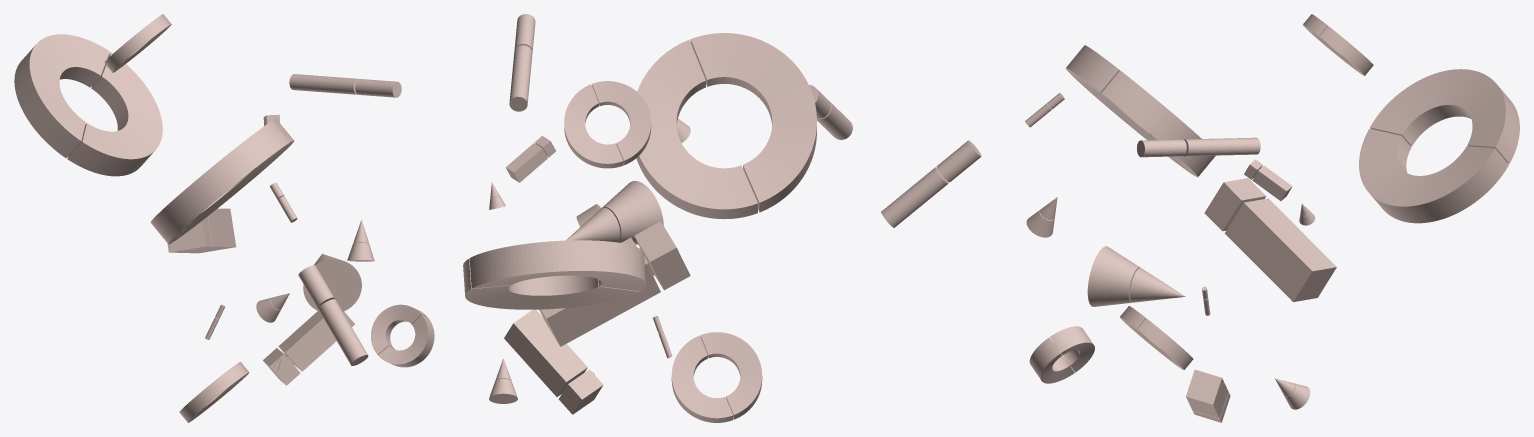
File: floating_shapes5.glb
The picture shows the model from 3 angles, left to right: view 1: azimuth 30°, elevation 25°; view 2: azimuth 150°, elevation 25°; view 3: azimuth 270°, elevation 25°; orthographic projection. The views are drawn at different scales.
Parts seen in each view (by area): view 1: Cylinder.015, Cylinder.019, Cylinder.011, Cube.002, Cylinder.005, Cube.001, Cylinder.013, Cylinder.001, Cylinder.020, Cylinder.023, Cylinder.016, Cylinder.012; view 2: Cylinder.019, Cylinder.015, Cylinder.020, Cube.001, Cylinder.023, Cube.002, Cylinder.001, Cylinder.013, Cube.006, Cylinder.005, Cylinder.012; view 3: Cylinder.015, Cube.001, Cylinder.019, Cylinder.001, Cylinder.011, Cylinder.005, Cylinder.013, Cube.002, Cylinder.020, Cylinder.023, Cube.006, Cylinder.016 (+1 smaller).
Part boxes in pixels (x1=…): Cylinder.015: x1=14, y1=34, x2=162, y2=176; Cylinder.019: x1=150, y1=119, x2=294, y2=244; Cylinder.011: x1=371, y1=304, x2=434, y2=367; Cube.002: x1=263, y1=311, x2=355, y2=385; Cylinder.005: x1=298, y1=265, x2=368, y2=365; Cube.001: x1=167, y1=208, x2=236, y2=253; Cylinder.013: x1=289, y1=74, x2=401, y2=97; Cylinder.001: x1=303, y1=253, x2=361, y2=311; Cylinder.020: x1=179, y1=362, x2=249, y2=422; Cylinder.023: x1=104, y1=14, x2=171, y2=72; Cylinder.016: x1=347, y1=220, x2=374, y2=261; Cylinder.012: x1=256, y1=293, x2=289, y2=322; Cylinder.019: x1=636, y1=33, x2=816, y2=219; Cylinder.015: x1=463, y1=240, x2=645, y2=309; Cylinder.020: x1=671, y1=332, x2=762, y2=422; Cube.001: x1=539, y1=221, x2=690, y2=346; Cylinder.023: x1=564, y1=81, x2=651, y2=168; Cube.002: x1=504, y1=309, x2=603, y2=414; Cylinder.001: x1=566, y1=181, x2=663, y2=244; Cylinder.013: x1=509, y1=14, x2=535, y2=111; Cube.006: x1=506, y1=136, x2=555, y2=182; Cylinder.005: x1=809, y1=85, x2=852, y2=139; Cylinder.012: x1=489, y1=358, x2=517, y2=403; Cylinder.015: x1=1359, y1=69, x2=1519, y2=223; Cube.001: x1=1204, y1=178, x2=1336, y2=302; Cylinder.019: x1=1065, y1=45, x2=1215, y2=177; Cylinder.001: x1=1087, y1=246, x2=1185, y2=306; Cylinder.011: x1=1029, y1=326, x2=1094, y2=383; Cylinder.005: x1=881, y1=140, x2=981, y2=227; Cylinder.013: x1=1137, y1=137, x2=1260, y2=157; Cube.002: x1=1186, y1=369, x2=1230, y2=422; Cylinder.020: x1=1120, y1=306, x2=1193, y2=369; Cylinder.023: x1=1303, y1=14, x2=1373, y2=75; Cube.006: x1=1244, y1=159, x2=1292, y2=200; Cylinder.016: x1=1026, y1=197, x2=1057, y2=237.
Size of the model in its own units: 154 by 203 by 322.
